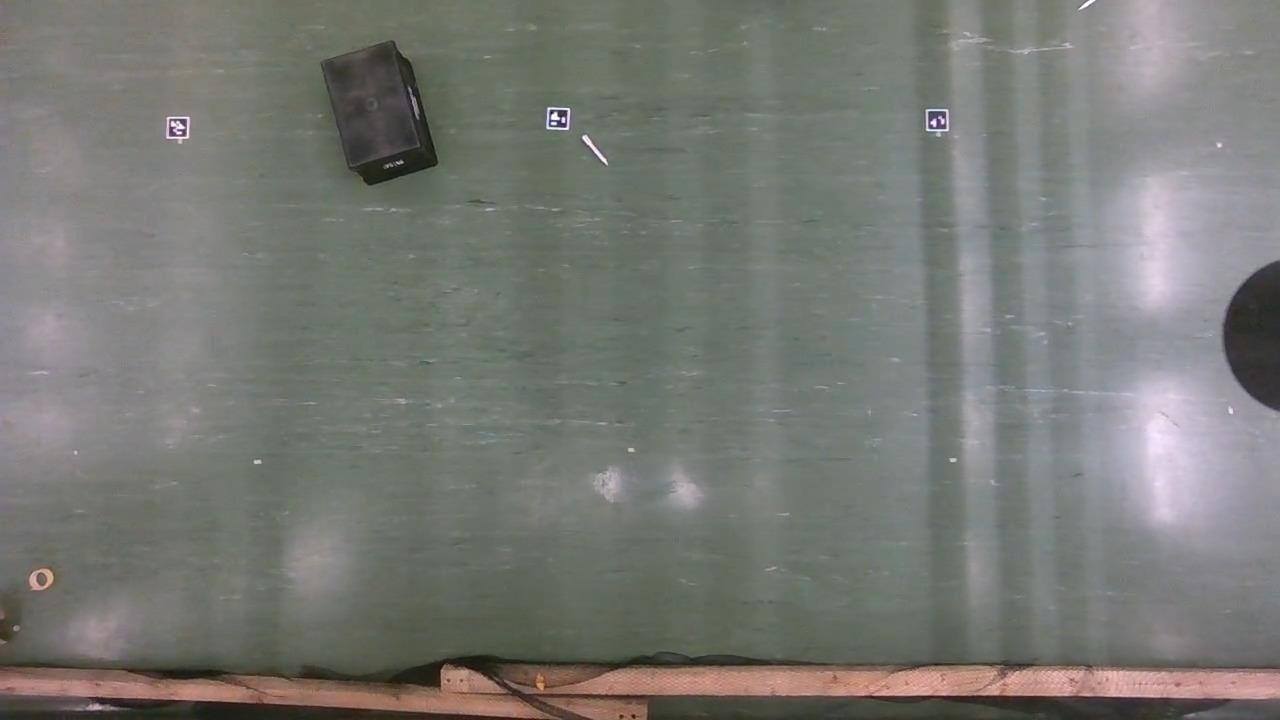probes: (584, 136, 608, 166)
rako: (322, 43, 439, 188)
